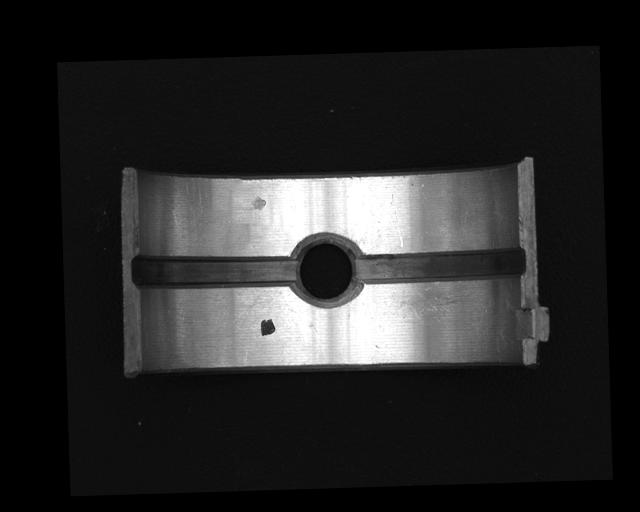blot: (260, 316, 275, 336)
bruise: (251, 195, 266, 211)
gap: (354, 246, 527, 285), (131, 252, 297, 291)
hole: (289, 236, 361, 305)
nick: (390, 193, 402, 248)
scratch: (399, 282, 476, 324)
